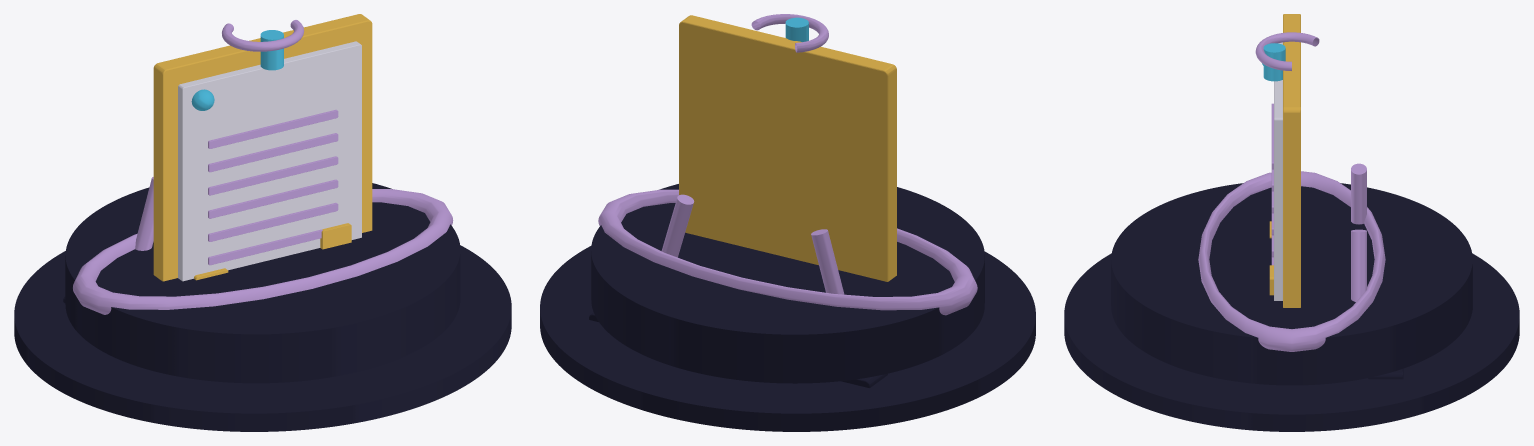
Rendered from 0860_生活中的数学图鉴_哈雷彗星.glb.
3 views of the same model, side by side, from view 1: azimuth 30°, elevation 25°; view 2: azimuth 150°, elevation 25°; view 3: azimuth 270°, elevation 25° (orthographic). The views are drawn at different scales.
Parts seen in each view (by area): view 1: card_0860; view 2: card_0860; view 3: card_0860.
Boxes of the visible parts, x1,y1,x2,y2 form: card_0860: [14, 14, 511, 431]; card_0860: [540, 14, 1035, 431]; card_0860: [1064, 14, 1519, 431].
Size of the model in its own units: 1.51 by 1 by 1.45.
